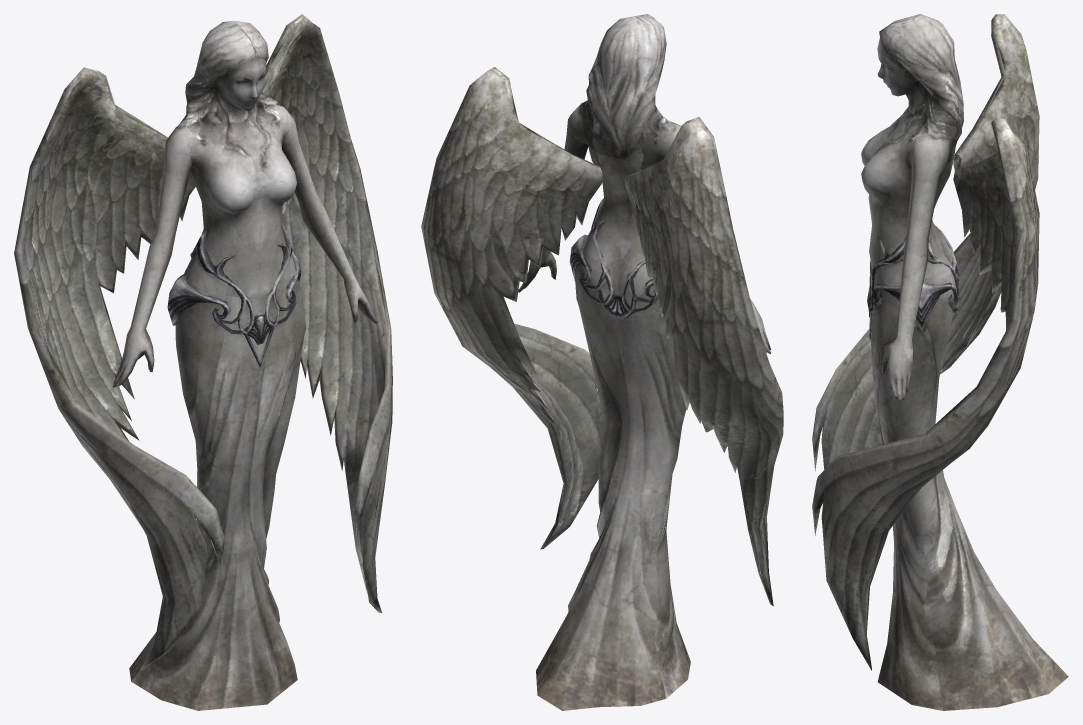
Rendered from SM_EN_2010_diaosuo01.FBX.
3 renders of one model, left to right at view 1: azimuth 30°, elevation 25°; view 2: azimuth 150°, elevation 25°; view 3: azimuth 270°, elevation 25°, orthographic. The views are drawn at different scales.
Parts seen in each view (by area): view 1: SM_EN_2010_diaosuo01; view 2: SM_EN_2010_diaosuo01; view 3: SM_EN_2010_diaosuo01.
Part boxes in pixels (<box>): SM_EN_2010_diaosuo01: <box>14,14,392,710</box>; SM_EN_2010_diaosuo01: <box>421,14,783,710</box>; SM_EN_2010_diaosuo01: <box>812,14,1068,710</box>.
Size of the model in its own units: 388 by 716 by 252.
